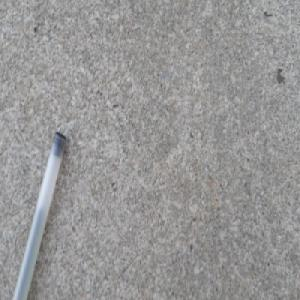Pen: (9, 129, 67, 300)
